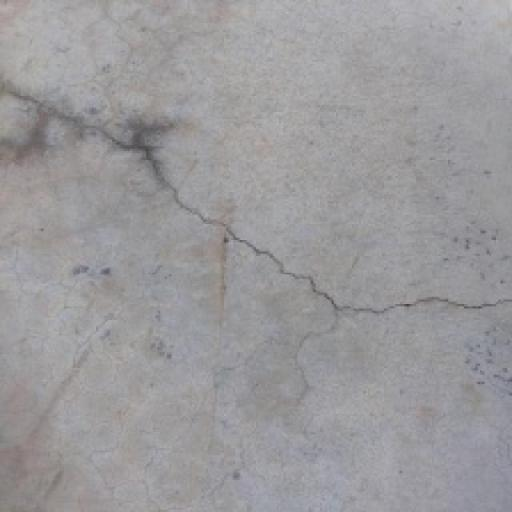severe crack: (11, 64, 512, 338)
